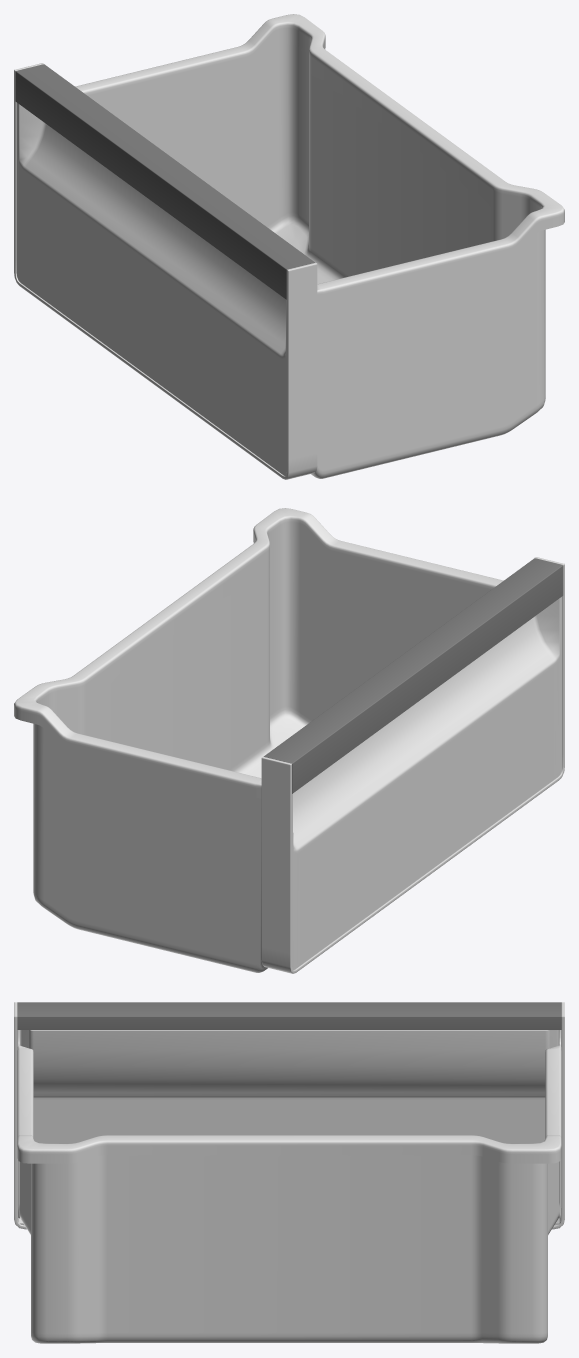
The model's file is SM_Fridge_Drawer_05.dae.
3 views of the same model, one above another, from view 1: azimuth 30°, elevation 25°; view 2: azimuth 150°, elevation 25°; view 3: azimuth 270°, elevation 25° (orthographic).
Parts seen in each view (by area): view 1: SM_Fridge_Drawer_05; view 2: SM_Fridge_Drawer_05; view 3: SM_Fridge_Drawer_05.
Part boxes in pixels (x1=…): SM_Fridge_Drawer_05: x1=14, y1=14, x2=564, y2=479; SM_Fridge_Drawer_05: x1=14, y1=508, x2=564, y2=973; SM_Fridge_Drawer_05: x1=14, y1=1002, x2=564, y2=1343.
Size of the model in its own units: 0.243 by 0.409 by 0.187.
Materials: 3 (2 with a texture image).
